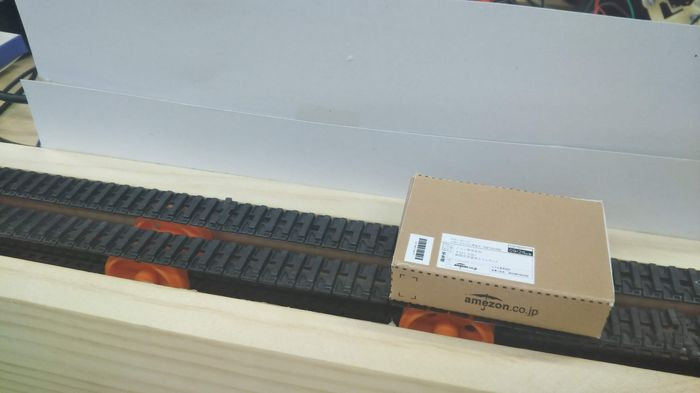box2: (385, 161, 620, 343)
